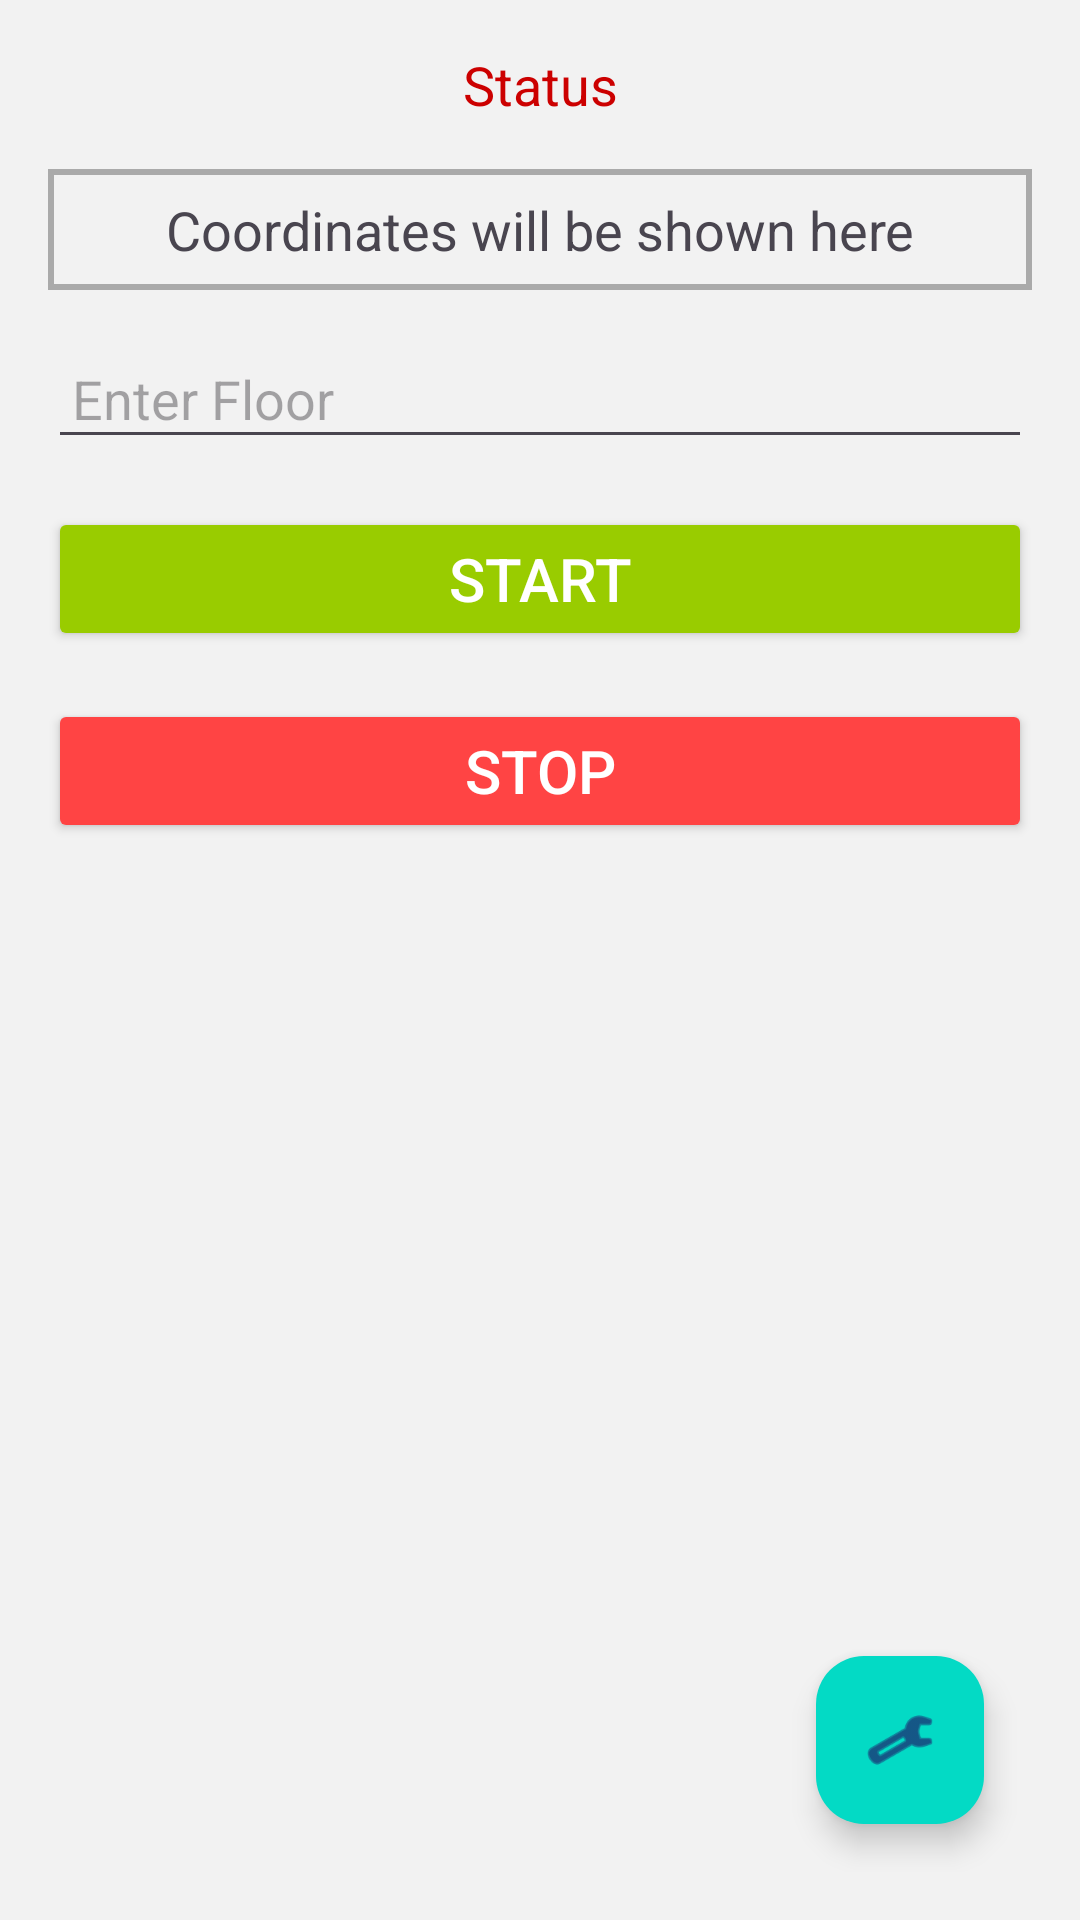

Named icons in this screenshot (1080 x 1920) and their centers, point (x, y):
Settings: point (900, 1740)
